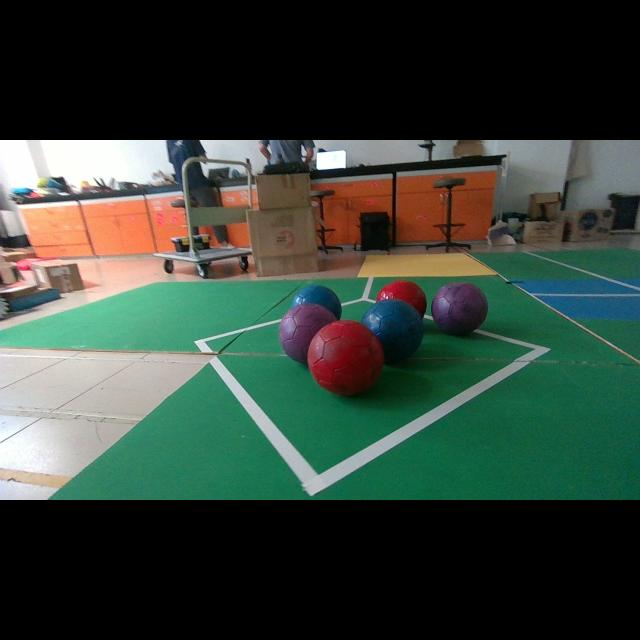B: (361, 299, 425, 362), (291, 285, 341, 320)
P: (279, 302, 336, 363), (431, 282, 488, 335)
R: (308, 320, 384, 396), (376, 281, 426, 317)
